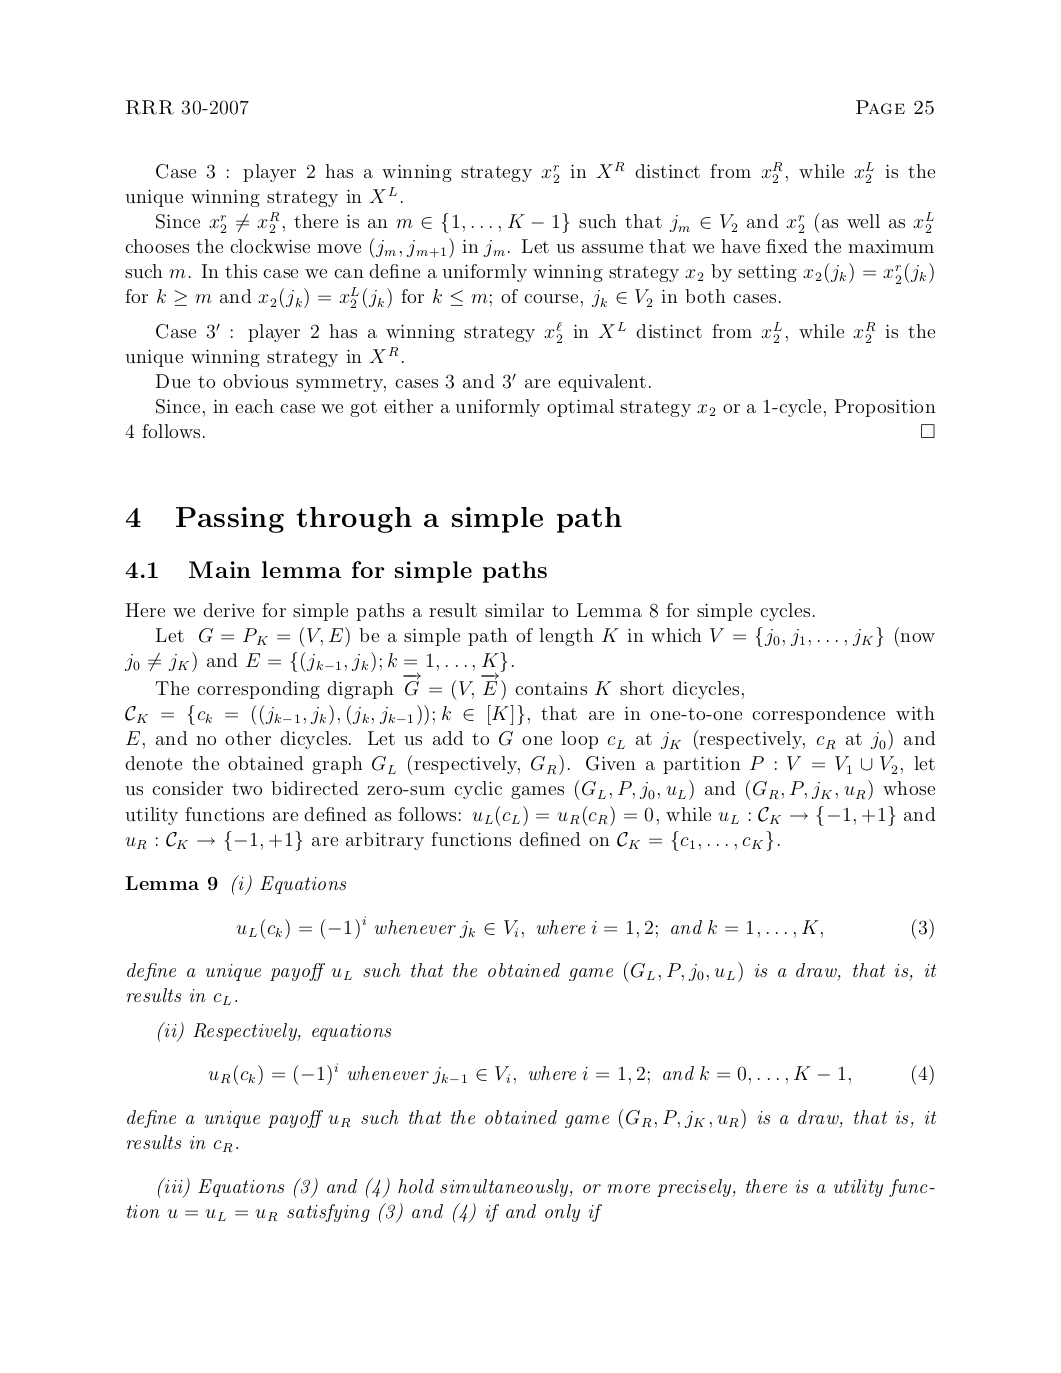formula: (208, 1062, 933, 1085), (236, 918, 933, 939)
